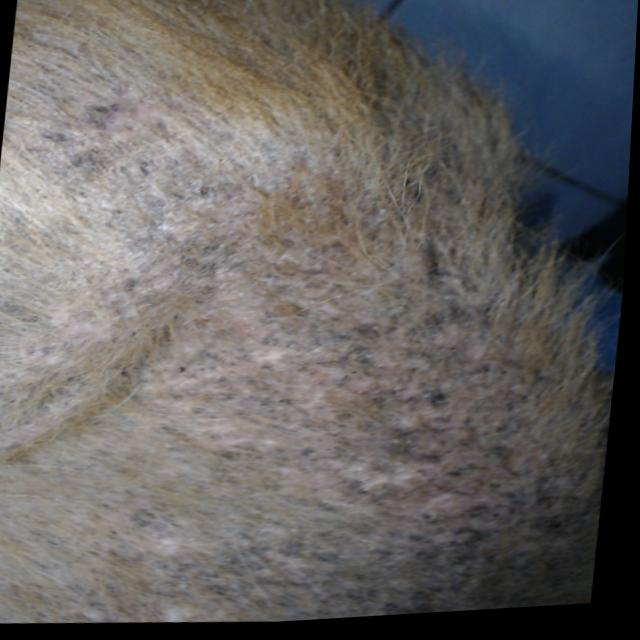demodicosis: (193, 272, 569, 618), (0, 100, 260, 280), (0, 302, 172, 431)
